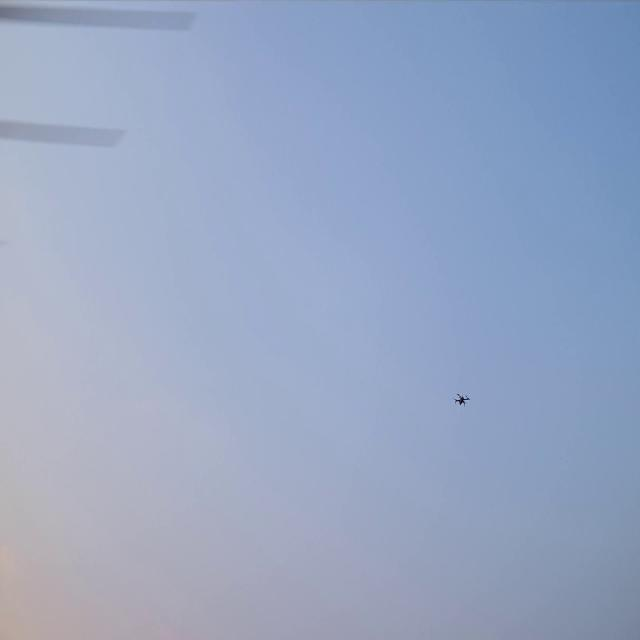UAV: (455, 394, 469, 404)
